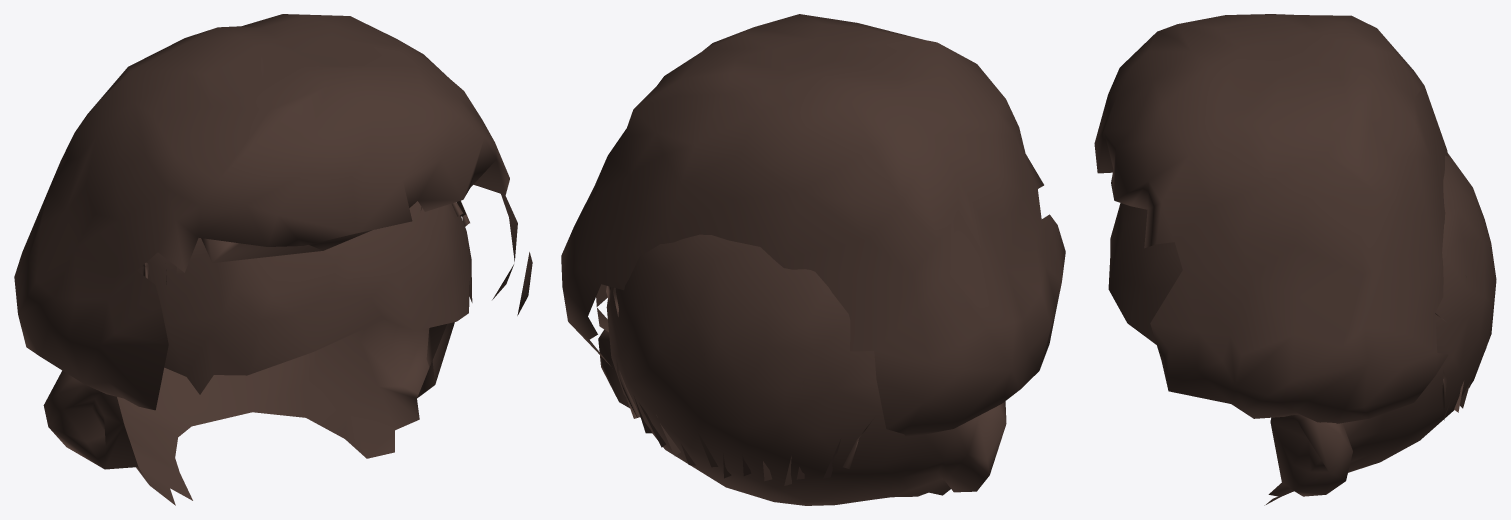
Rendered from blunt-bob.glb.
3 views of the same model, side by side, from view 1: azimuth 30°, elevation 25°; view 2: azimuth 150°, elevation 25°; view 3: azimuth 270°, elevation 25° (orthographic). The views are drawn at different scales.
Parts seen in each view (by area): view 1: Hair, HairScalp; view 2: Hair, HairScalp, HairPulledRootStrands; view 3: Hair, HairScalp.
Boxes of the visible parts, x1,y1,x2,y2 form: Hair: (14, 14, 532, 410); HairScalp: (43, 201, 472, 505); Hair: (561, 14, 1065, 436); HairScalp: (598, 234, 1006, 505); HairPulledRootStrands: (606, 286, 875, 485); Hair: (1094, 14, 1448, 423); HairScalp: (1108, 153, 1496, 505).
Bounding box in the file's own units: 0.5705 × 0.5152 × 0.4522.
